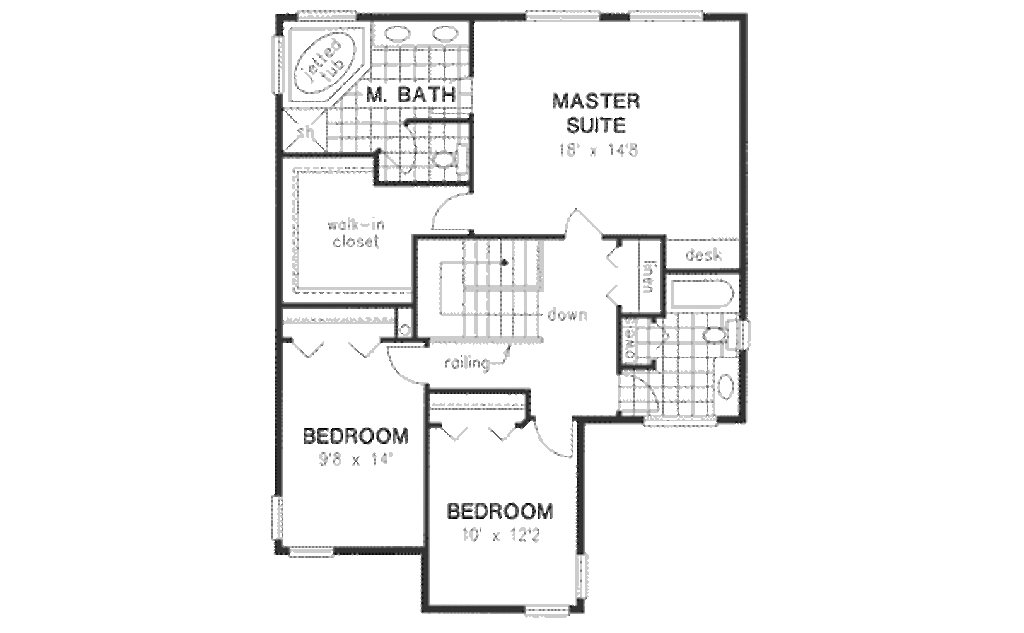door: (558, 187, 606, 246), (609, 370, 664, 418), (381, 116, 422, 178), (422, 187, 476, 233), (536, 416, 582, 464), (383, 342, 426, 389)
large_sink: (693, 317, 757, 356), (429, 140, 485, 178)
small_sink: (378, 9, 477, 51), (711, 361, 746, 421)
stairs: (413, 230, 557, 340)
tub: (662, 272, 751, 314)
window: (569, 546, 603, 601), (525, 5, 605, 25), (293, 5, 357, 27), (268, 33, 291, 94), (628, 6, 704, 24), (269, 497, 288, 540), (291, 547, 338, 560), (531, 602, 569, 618)
